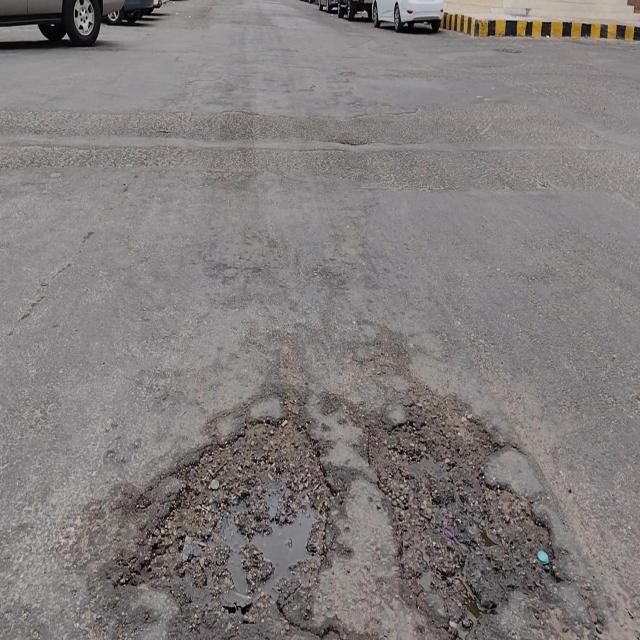Pothole: (367, 399, 553, 638), (155, 414, 336, 606)
